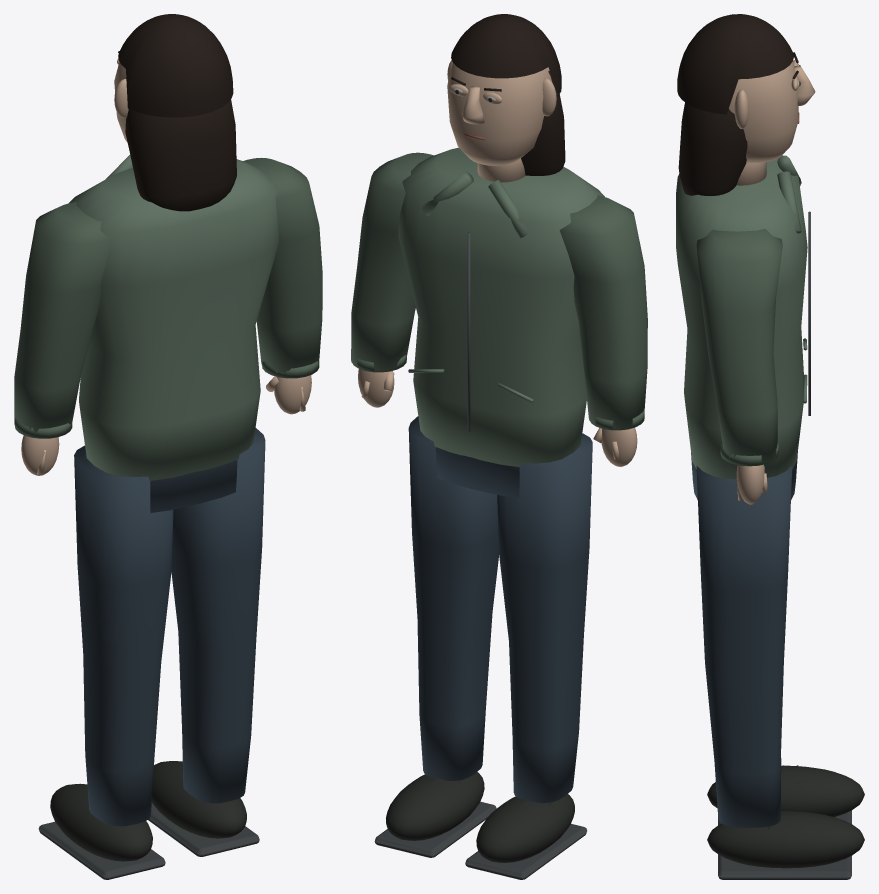
File: pedestrian_4.glb
The picture shows the model from 3 angles, left to right: view 1: azimuth 30°, elevation 25°; view 2: azimuth 150°, elevation 25°; view 3: azimuth 270°, elevation 25°; orthographic projection. The views are drawn at different scales.
Visible parts, largest first — view 1: Person_Coat fabric, leg_L_Detailed human vertex surfaces, leg_R_Detailed human vertex surfaces, head_Detailed human vertex surfaces, arm_L_Detailed human vertex surfaces, arm_R_Detailed human vertex surfaces, Person_Denim trousers; view 2: Person_Coat fabric, leg_L_Detailed human vertex surfaces, leg_R_Detailed human vertex surfaces, head_Detailed human vertex surfaces, arm_L_Detailed human vertex surfaces, arm_R_Detailed human vertex surfaces, Person_Denim trousers, Person_Chassis graphite; view 3: leg_R_Detailed human vertex surfaces, Person_Coat fabric, head_Detailed human vertex surfaces, arm_R_Detailed human vertex surfaces, leg_L_Detailed human vertex surfaces, Person_Chassis graphite.
Boxes of the visible parts, x1,y1,x2,y2 form: Person_Coat fabric: (69, 154, 278, 480); leg_L_Detailed human vertex surfaces: (38, 445, 173, 879); leg_R_Detailed human vertex surfaces: (148, 428, 265, 856); head_Detailed human vertex surfaces: (114, 14, 236, 211); arm_L_Detailed human vertex surfaces: (14, 201, 111, 475); arm_R_Detailed human vertex surfaces: (243, 157, 322, 414); Person_Denim trousers: (150, 460, 237, 512); Person_Coat fabric: (398, 147, 604, 467); leg_L_Detailed human vertex surfaces: (465, 433, 592, 879); leg_R_Detailed human vertex surfaces: (374, 416, 498, 857); head_Detailed human vertex surfaces: (447, 14, 565, 182); arm_L_Detailed human vertex surfaces: (559, 195, 647, 466); arm_R_Detailed human vertex surfaces: (351, 152, 433, 407); Person_Denim trousers: (435, 447, 519, 497); Person_Chassis graphite: (467, 232, 470, 431); leg_R_Detailed human vertex surfaces: (696, 466, 864, 879); Person_Coat fabric: (676, 155, 807, 479); head_Detailed human vertex surfaces: (677, 14, 815, 195); arm_R_Detailed human vertex surfaces: (696, 228, 782, 504); leg_L_Detailed human vertex surfaces: (707, 758, 864, 825); Person_Chassis graphite: (808, 211, 810, 415).
Bounding box in the file's own units: 0.6167 × 1.66 × 0.3446.
